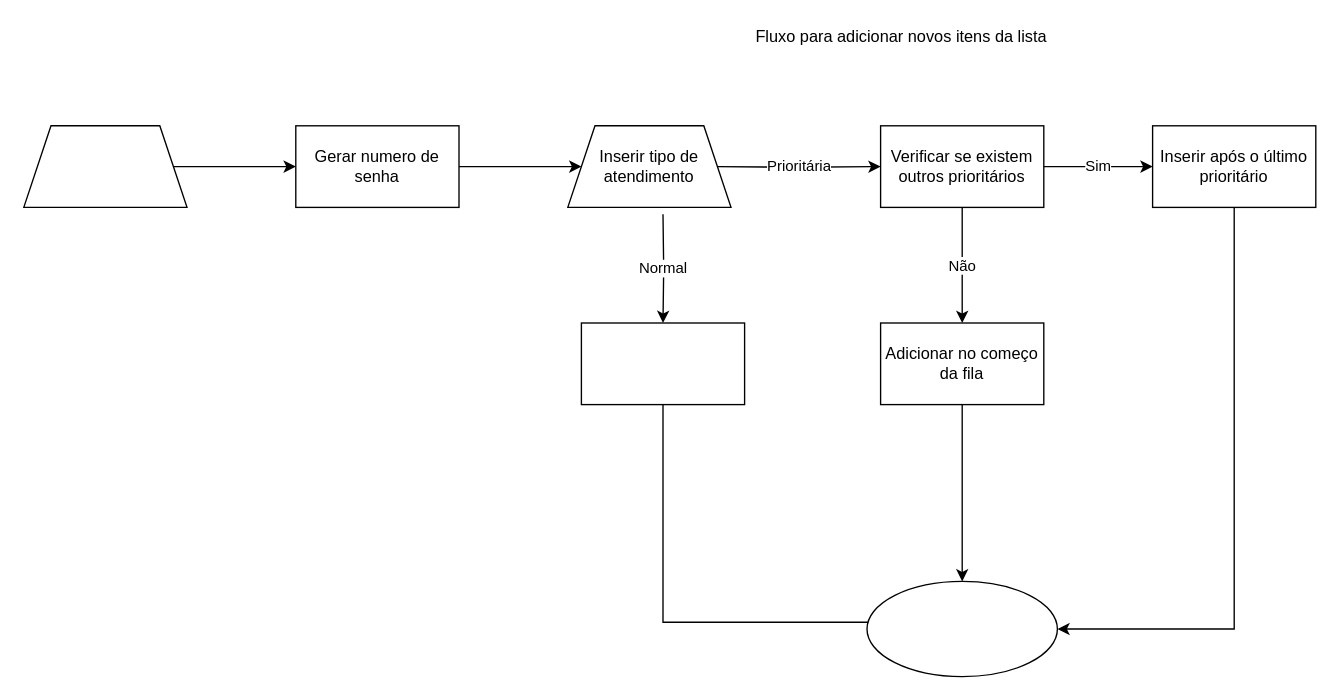
This 1340x700 diagram has some shape labels left out. The shapes that lost their labels are listed below. From the top down, each one's centre as x and y in pixels, then its label:
At (104,165): "Gerar senha".
At (662,363): "Adicionar ao fim da fila".
At (961,628): "Fim".
